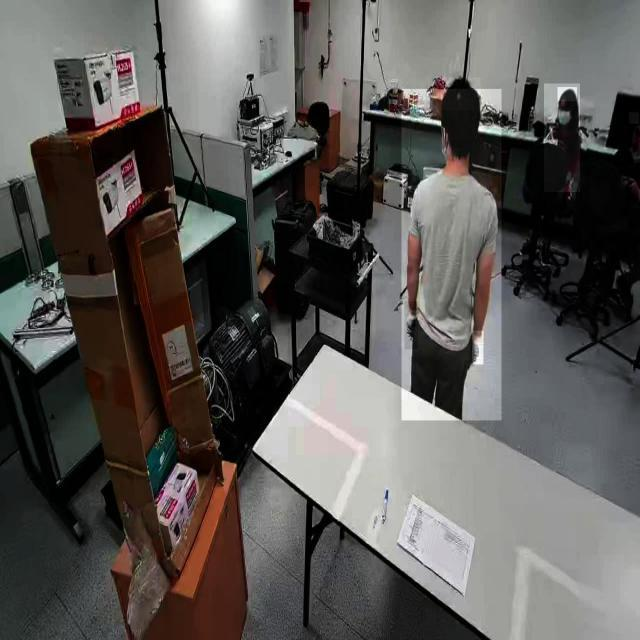gloves: (404, 302, 418, 351), (472, 330, 484, 366)
